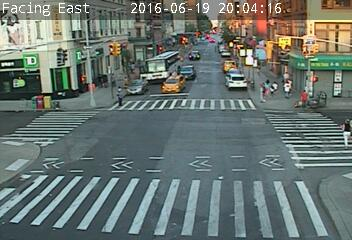neg: (19, 131, 51, 173), (221, 133, 249, 170), (217, 64, 242, 97), (269, 170, 293, 202), (158, 39, 182, 71), (136, 154, 159, 185), (265, 28, 284, 54), (310, 42, 329, 68), (157, 99, 176, 124), (62, 155, 79, 178), (294, 122, 311, 144), (225, 192, 241, 214), (46, 77, 61, 96)
pos: (326, 114, 350, 146), (108, 82, 128, 109), (255, 81, 269, 100), (297, 87, 311, 106), (281, 76, 295, 94), (261, 76, 274, 93)
